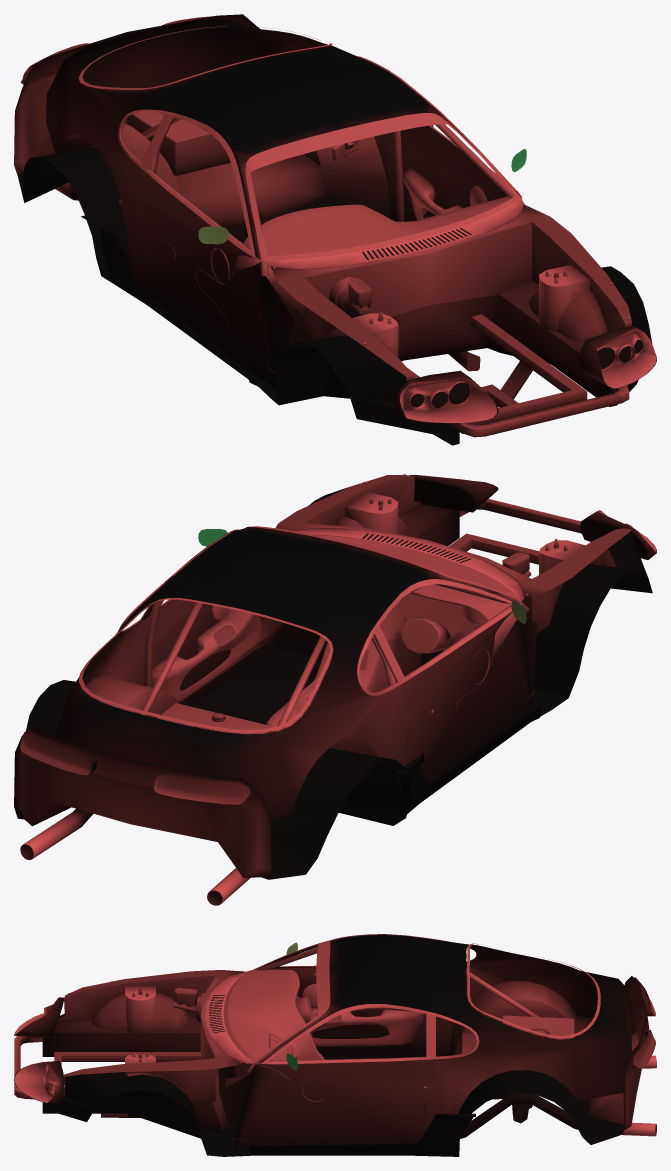
The model's file is Supra_Chassis_Trim.fbx.
3 renders of one model, top to bottom at view 1: azimuth 30°, elevation 25°; view 2: azimuth 150°, elevation 25°; view 3: azimuth 270°, elevation 25°, orthographic. The views are drawn at different scales.
Parts seen in each view (by area): view 1: Supra_Chassis_Trim; view 2: Supra_Chassis_Trim; view 3: Supra_Chassis_Trim.
Boxes of the visible parts, x1=… form: Supra_Chassis_Trim: x1=14, y1=14, x2=656, y2=445; Supra_Chassis_Trim: x1=14, y1=474, x2=656, y2=905; Supra_Chassis_Trim: x1=14, y1=934, x2=656, y2=1156.
Bounding box in the file's own units: 189 × 112 × 432.
